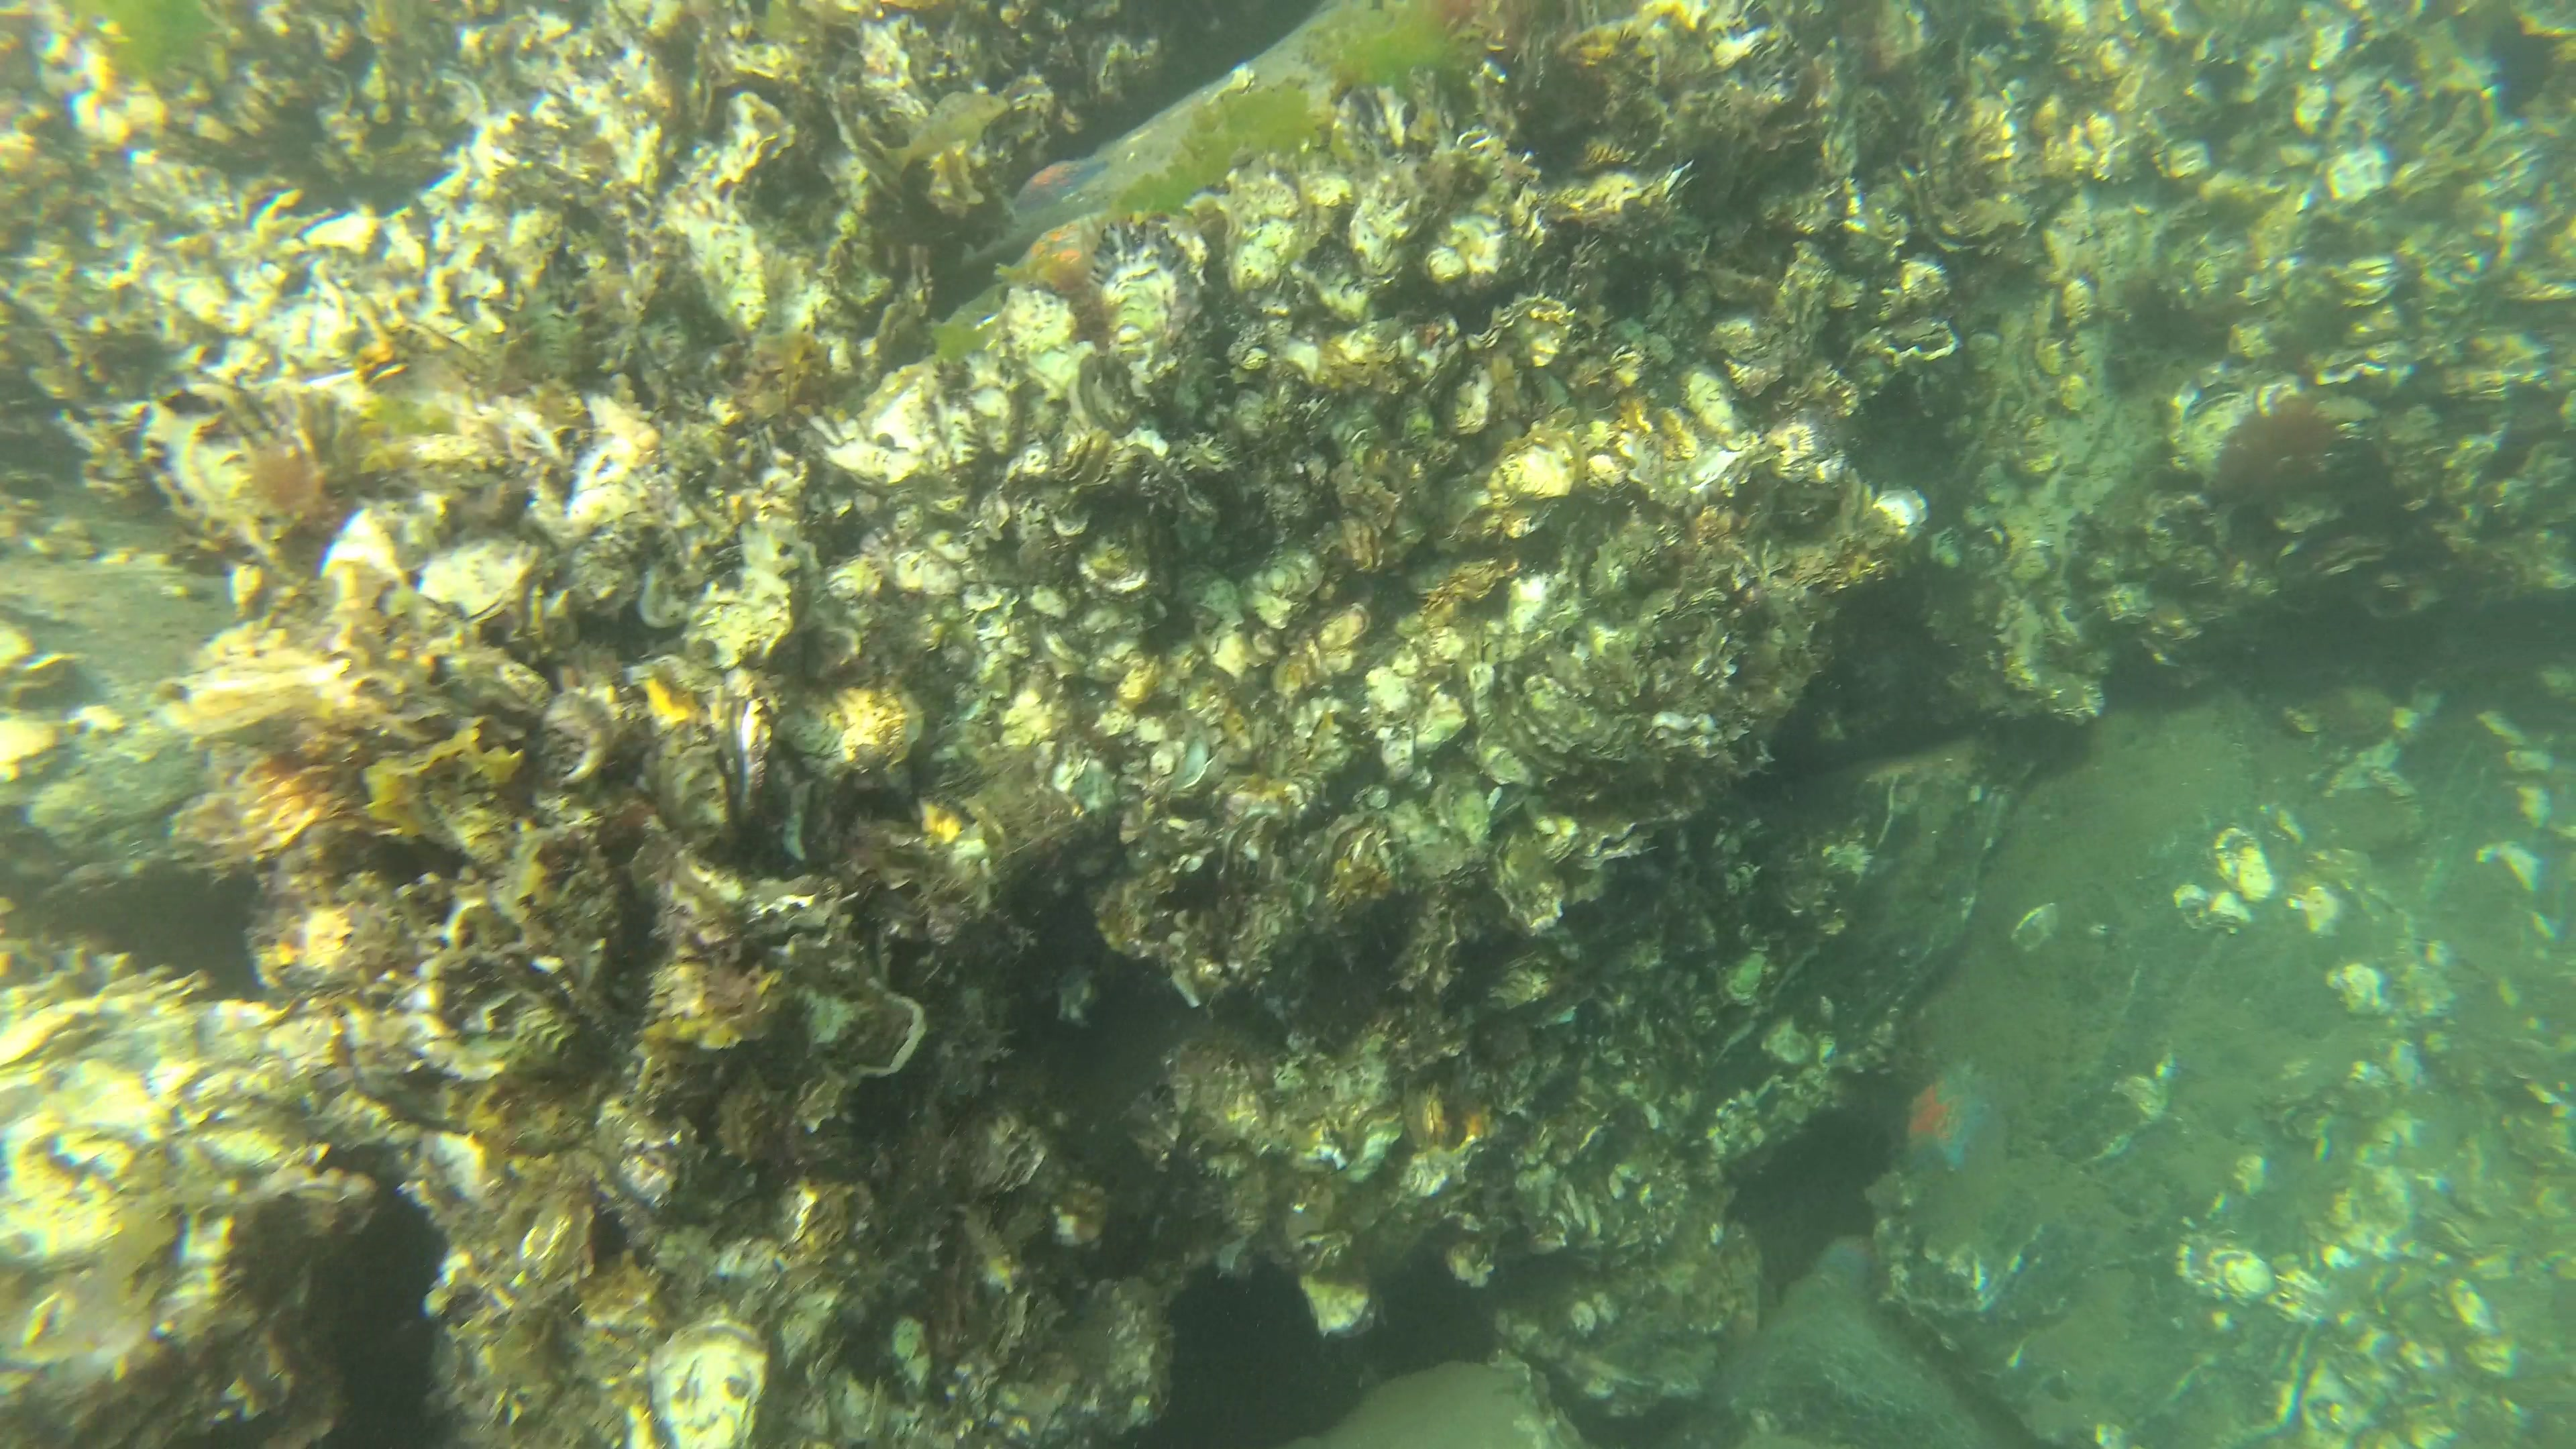starfish: (1907, 1065, 1989, 1177), (1000, 219, 1104, 285), (1007, 156, 1099, 207)
